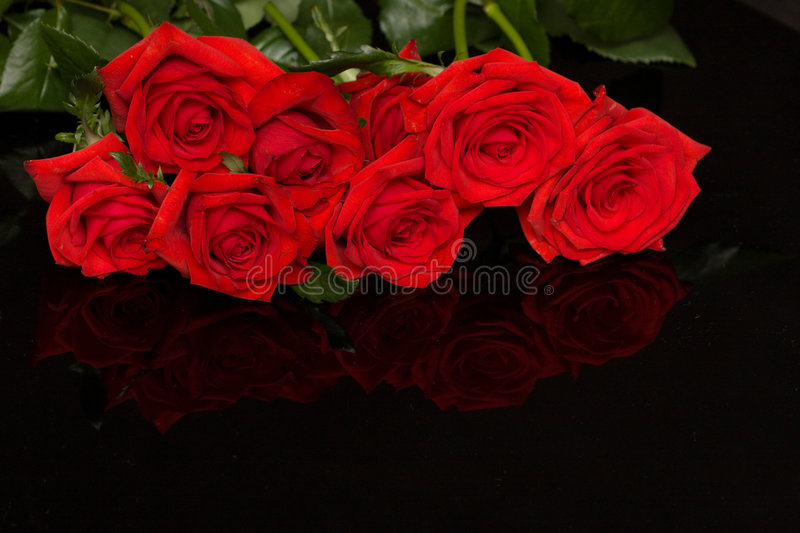RedRose: (325, 150, 469, 282), (551, 119, 685, 257), (414, 56, 544, 184), (185, 173, 325, 283), (251, 91, 369, 208), (135, 44, 249, 162), (71, 149, 170, 274), (652, 223, 661, 239)
